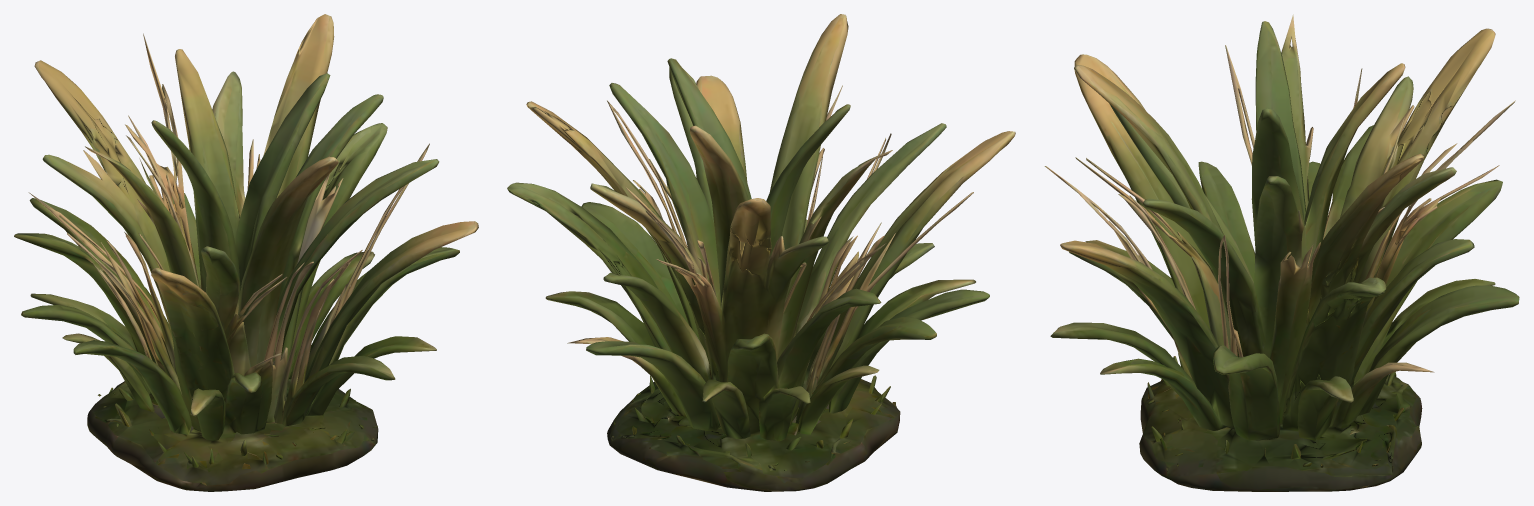
File: nature_grass_t1_tuft.glb
3 renders of one model, left to right at view 1: azimuth 30°, elevation 25°; view 2: azimuth 150°, elevation 25°; view 3: azimuth 270°, elevation 25°, orthographic. The views are drawn at different scales.
Visible parts, largest first — view 1: world; view 2: world; view 3: world.
Part boxes in pixels (left/top/right/bottom): world: left=14, top=14, right=478, bottom=491; world: left=507, top=14, right=1015, bottom=491; world: left=1044, top=14, right=1519, bottom=491.
Bounding box in the file's own units: 0.4807 × 0.3999 × 0.4629.
1 material, 1 textured.
